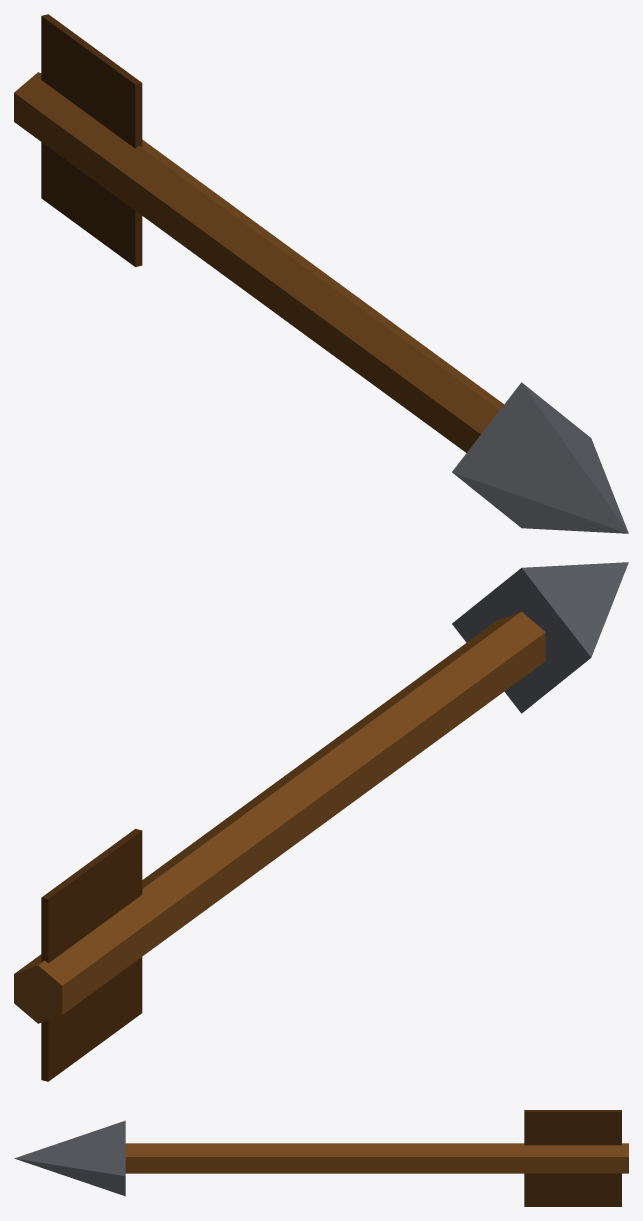
The model's file is crossbow-bolt.glb.
The picture shows the model from 3 angles, top to bottom: view 1: azimuth 30°, elevation 25°; view 2: azimuth 150°, elevation 25°; view 3: azimuth 270°, elevation 25°; orthographic projection. The views are drawn at different scales.
Parts seen in each view (by area): view 1: crossbow-bolt; view 2: crossbow-bolt; view 3: crossbow-bolt.
Boxes of the visible parts, x1,y1,x2,y2 form: crossbow-bolt: (14,14,628,533); crossbow-bolt: (14,562,628,1081); crossbow-bolt: (14,1110,628,1206).
Bounding box in the file's own units: 0.06 × 0.075 × 0.44.
